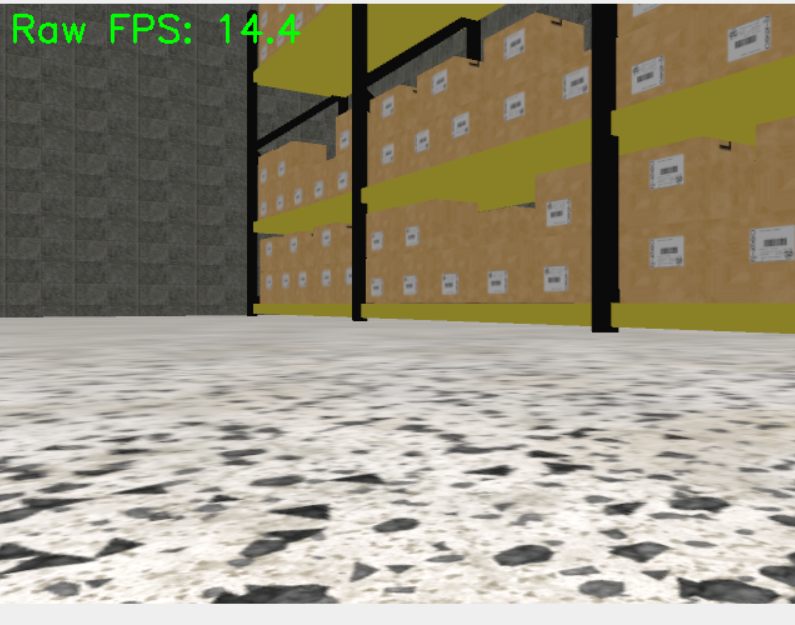barcode: (727, 15, 771, 65), (748, 224, 795, 263), (631, 54, 664, 97), (649, 153, 686, 190), (648, 235, 686, 268), (562, 67, 590, 101), (545, 198, 572, 226), (503, 91, 528, 121), (503, 29, 527, 59), (543, 265, 569, 292), (486, 270, 509, 295), (450, 112, 472, 138), (402, 224, 421, 250), (432, 68, 449, 96), (415, 127, 432, 154), (439, 272, 458, 296), (381, 95, 397, 119), (369, 276, 385, 299), (401, 274, 417, 296), (370, 231, 385, 252), (381, 144, 396, 164)
